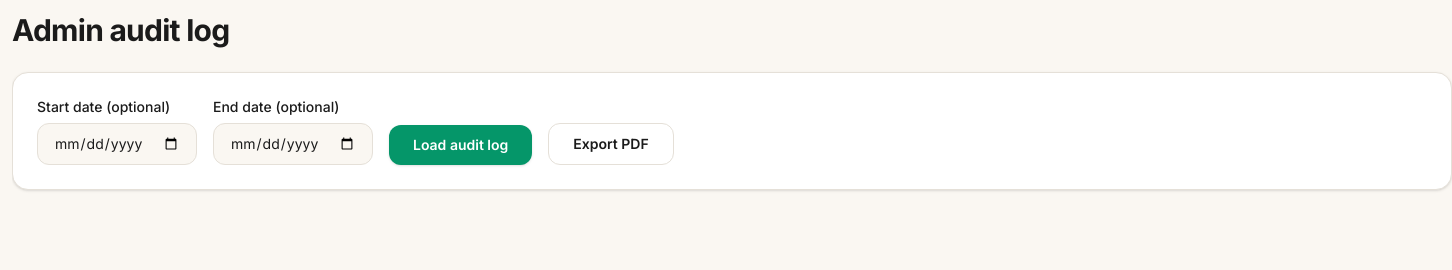
Test: export PDF shows an error message when the export fails
The image size is (1452, 270).
Click the button "Export PDF": (611, 144) [548,123,674,165]
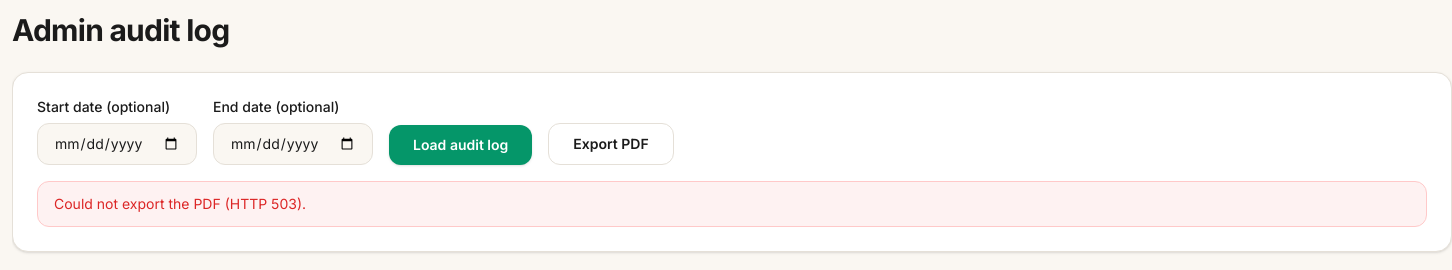
Expected: the message shows "503", [54,195,306,212]
